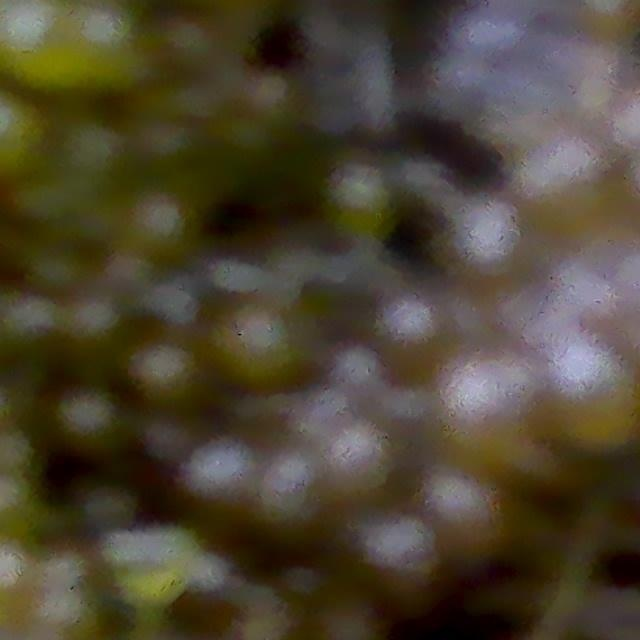SeaGrape: (564, 340, 636, 435), (222, 312, 301, 382), (461, 372, 531, 447), (331, 420, 394, 497), (380, 297, 447, 362), (461, 202, 519, 272), (447, 481, 496, 548), (54, 384, 108, 444), (261, 462, 322, 515), (331, 339, 382, 401), (378, 521, 433, 577), (554, 132, 601, 191), (559, 265, 608, 321), (136, 347, 194, 392), (198, 439, 238, 497)
